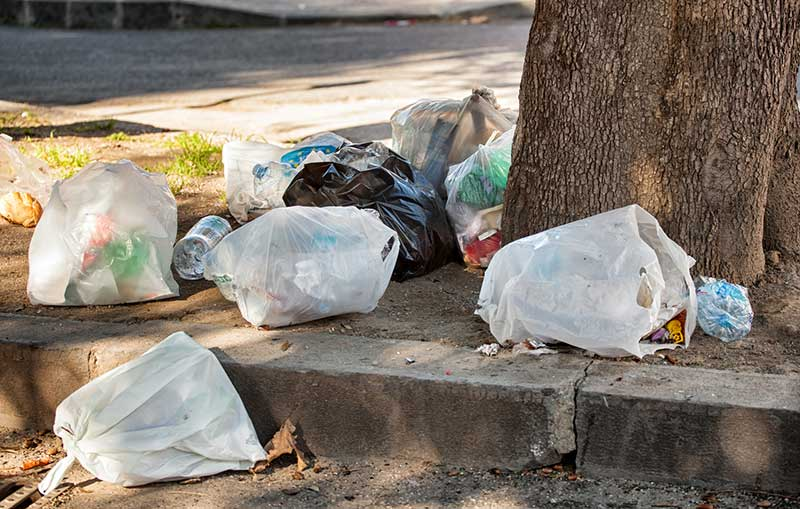can: (167, 212, 235, 292)
